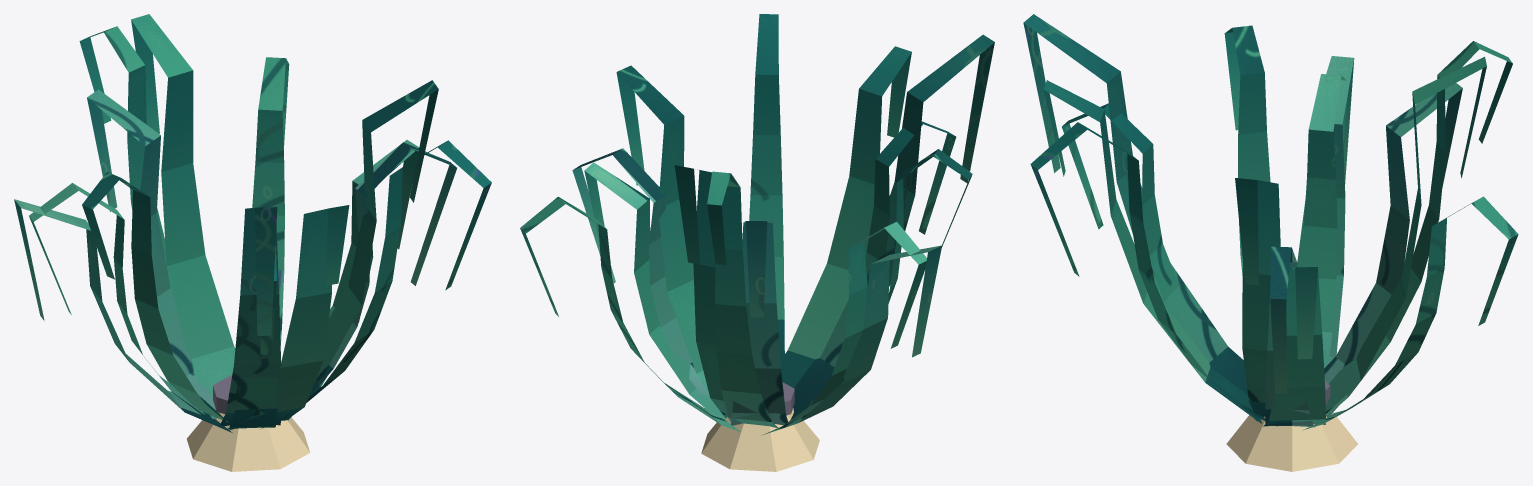
Rendered from fol_frond_alien_a.glb.
3 views of the same model, side by side, from view 1: azimuth 30°, elevation 25°; view 2: azimuth 150°, elevation 25°; view 3: azimuth 270°, elevation 25° (orthographic). The views are drawn at different scales.
Parts seen in each view (by area): view 1: lod1__frond_canopy, lod0__frond_canopy, lod2__frond_canopy, lod0__frond_root; view 2: lod0__frond_canopy, lod1__frond_canopy, lod2__frond_canopy, lod0__frond_root; view 3: lod0__frond_canopy, lod2__frond_canopy, lod1__frond_canopy, lod0__frond_root.
Boxes of the visible parts, x1=… form: lod1__frond_canopy: x1=14, y1=14, x2=419, y2=432; lod0__frond_canopy: x1=29, y1=26, x2=491, y2=429; lod2__frond_canopy: x1=87, y1=80, x2=438, y2=426; lod0__frond_root: x1=187, y1=375, x2=310, y2=471; lod0__frond_canopy: x1=520, y1=14, x2=972, y2=431; lod1__frond_canopy: x1=584, y1=46, x2=942, y2=435; lod2__frond_canopy: x1=616, y1=34, x2=994, y2=425; lod0__frond_root: x1=701, y1=382, x2=819, y2=471; lod0__frond_canopy: x1=1030, y1=25, x2=1518, y2=430; lod2__frond_canopy: x1=1023, y1=14, x2=1462, y2=421; lod1__frond_canopy: x1=1043, y1=56, x2=1486, y2=426; lod0__frond_root: x1=1226, y1=380, x2=1357, y2=471.
Size of the model in its own units: 1.47 by 1.25 by 1.5.
Materials: 2 (1 with a texture image).
